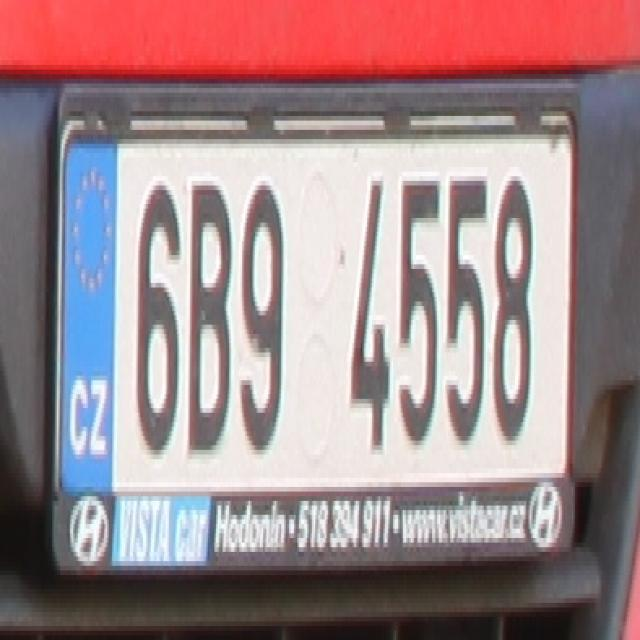4: (348, 167, 392, 450)
5: (443, 162, 488, 454), (398, 162, 440, 454)
6: (130, 176, 180, 459)
8: (492, 172, 533, 460)
9: (236, 176, 284, 459)
B: (186, 176, 230, 459)
